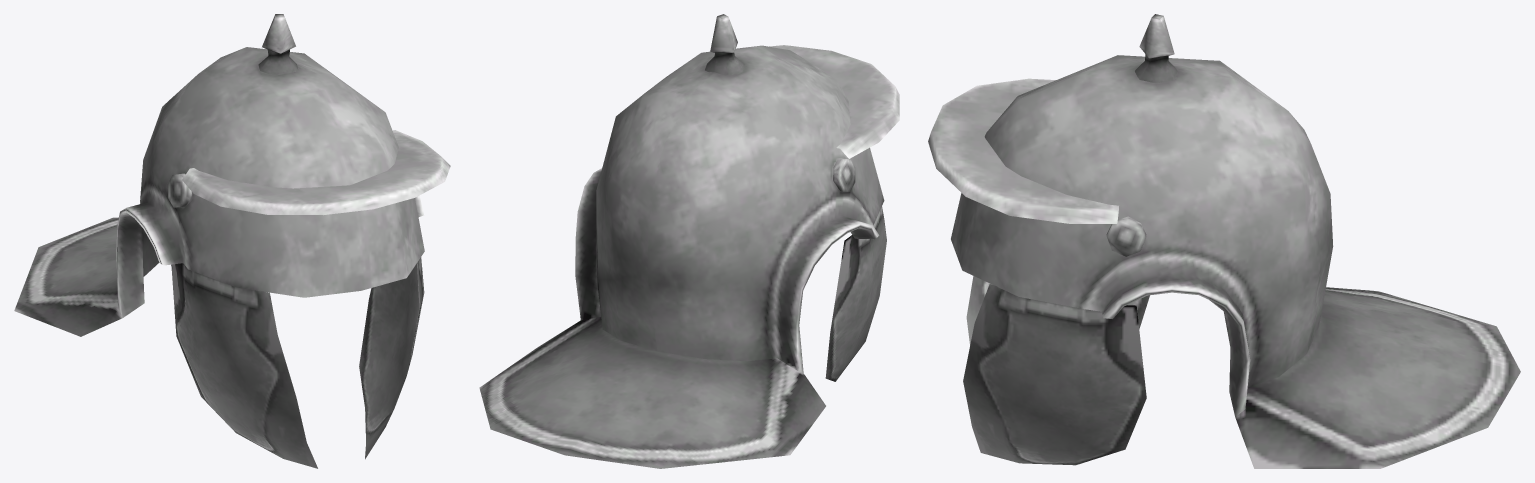
The model's file is helmet-heavyinfantry.glb.
The picture shows the model from 3 angles, left to right: view 1: azimuth 30°, elevation 25°; view 2: azimuth 150°, elevation 25°; view 3: azimuth 270°, elevation 25°; orthographic projection. The views are drawn at different scales.
Size of the model in its own units: 0.3537 by 0.4219 by 0.5231.
Materials: 1 (1 with a texture image).
